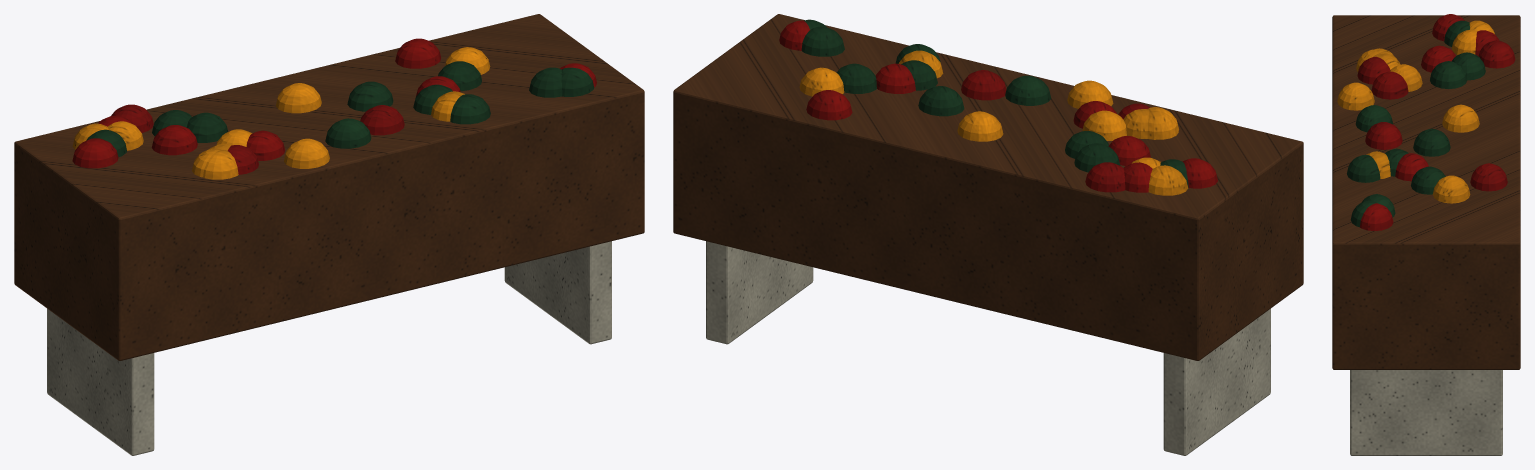
The model's file is PROP-F7CB7C9D706C_lod0.glb.
3 renders of one model, left to right at view 1: azimuth 30°, elevation 25°; view 2: azimuth 150°, elevation 25°; view 3: azimuth 270°, elevation 25°, orthographic. The views are drawn at different scales.
Parts seen in each view (by area): view 1: produce_bin, stand_legs, produce_fruit.002, produce_fruit, produce_fruit.001; view 2: produce_bin, stand_legs, produce_fruit, produce_fruit.002, produce_fruit.001; view 3: produce_bin, stand_legs, produce_fruit, produce_fruit.002, produce_fruit.001.
Part boxes in pixels (x1,y1,x2,y2): produce_bin: (14, 14, 644, 360); stand_legs: (47, 241, 611, 455); produce_fruit.002: (86, 61, 594, 157); produce_fruit: (72, 38, 596, 174); produce_fruit.001: (72, 47, 490, 179); produce_bin: (673, 14, 1303, 360); stand_legs: (706, 241, 1270, 455); produce_fruit: (779, 20, 1217, 192); produce_fruit.002: (801, 19, 1188, 187); produce_fruit.001: (799, 50, 1188, 195); produce_bin: (1332, 15, 1520, 369); stand_legs: (1350, 370, 1502, 455); produce_fruit: (1357, 14, 1515, 230); produce_fruit.002: (1347, 20, 1485, 227); produce_fruit.001: (1337, 20, 1494, 203).
Bounding box in the file's own units: 2.3 × 1.13 × 0.8.
5 materials, 5 textured.
